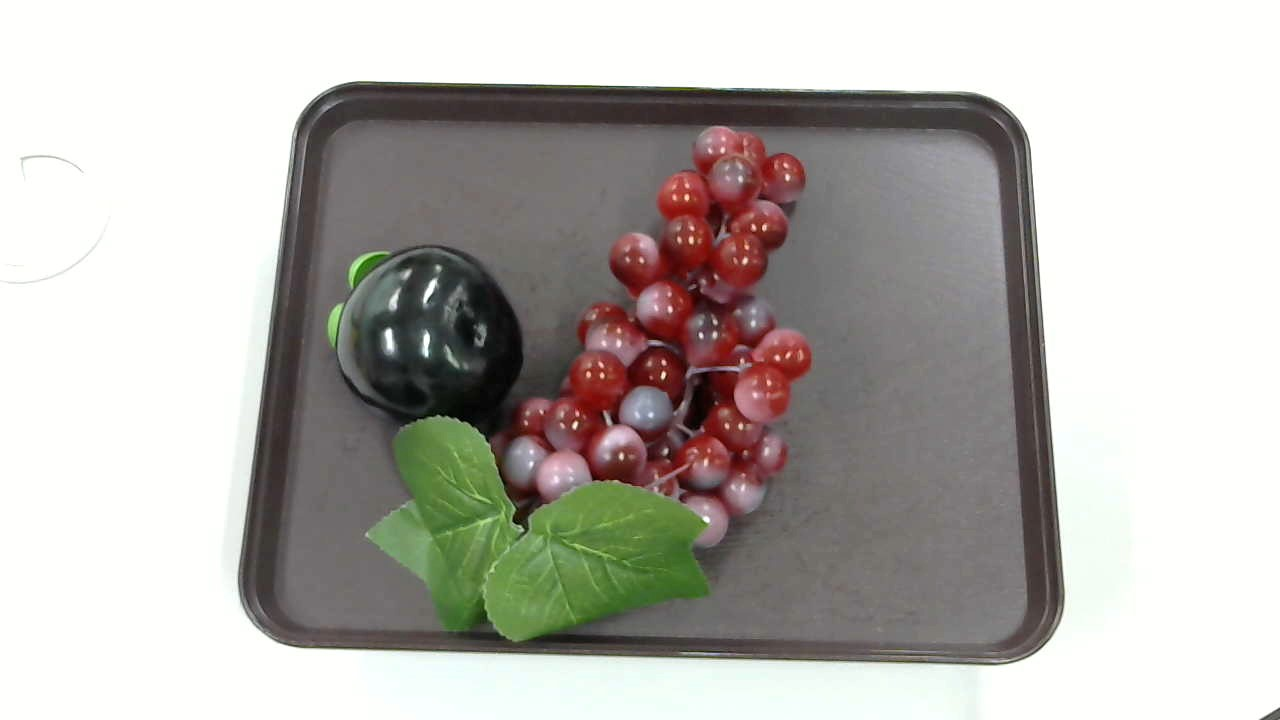grape: (362, 117, 825, 644)
mangosteen: (322, 235, 524, 432)
